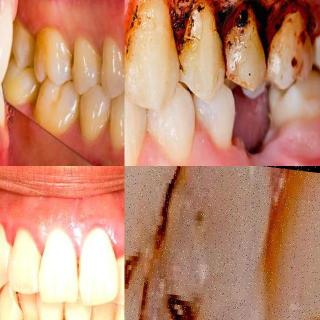Gum Swelling: (0, 206, 124, 260)
cavities: (124, 166, 243, 320)
maligned: (0, 283, 22, 320), (19, 286, 37, 320)
plaque: (108, 255, 125, 299), (2, 241, 18, 274)
stains: (67, 254, 89, 290)
